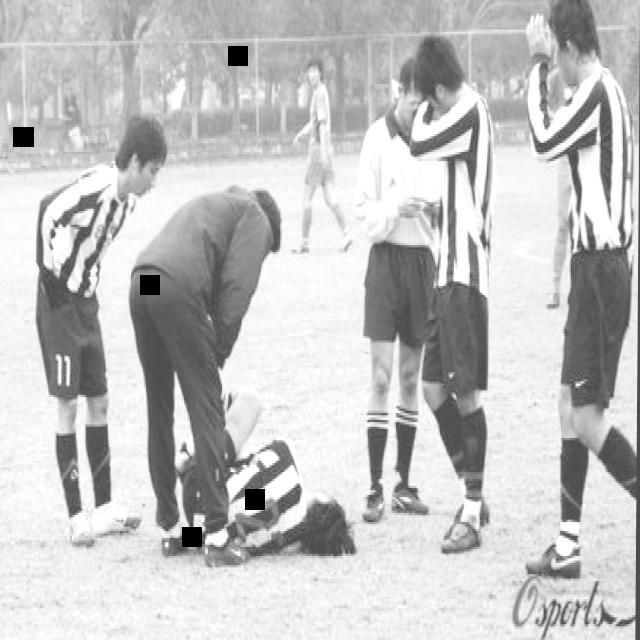Fall-Detected: (161, 377, 360, 572)
